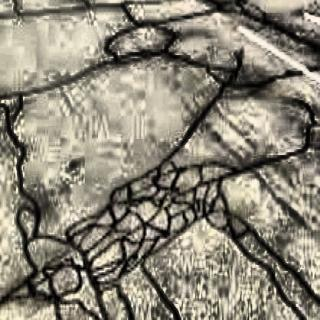alligator-crack: (18, 160, 250, 320)
crack: (178, 42, 252, 127), (270, 58, 320, 164), (106, 23, 156, 73), (8, 83, 32, 176)
